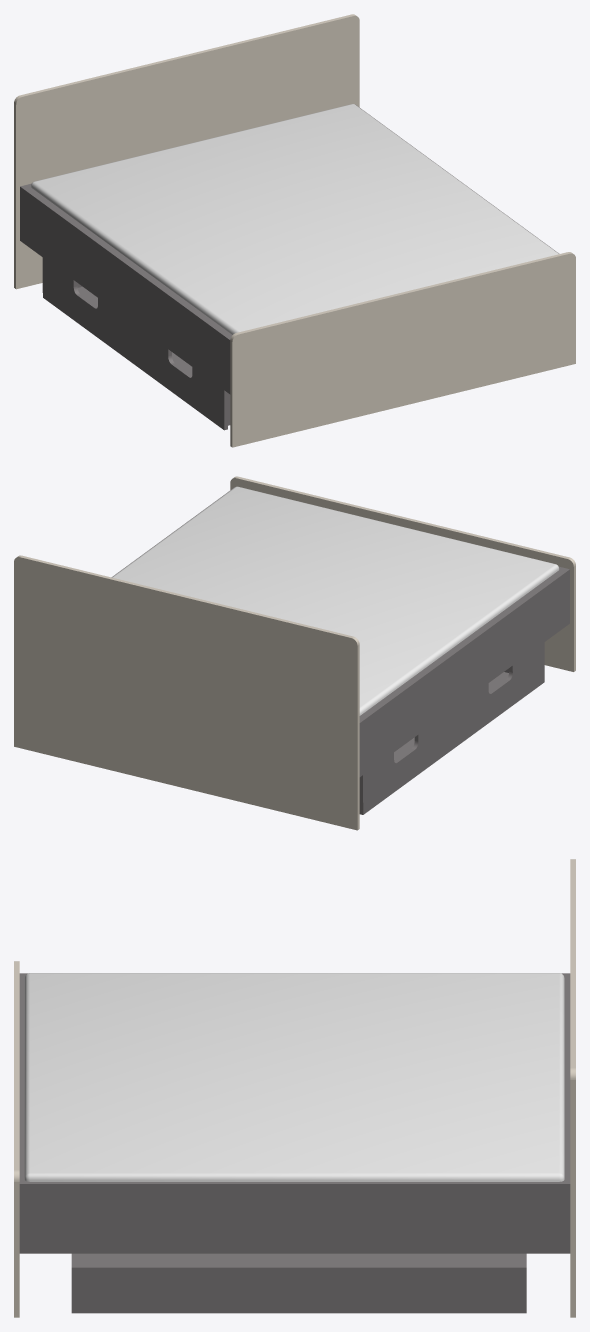
File: 2pir_lozko2os_plaski_szczyt_180.obj
3 renders of one model, top to bottom at view 1: azimuth 30°, elevation 25°; view 2: azimuth 150°, elevation 25°; view 3: azimuth 270°, elevation 25°, orthographic. The views are drawn at different scales.
Parts seen in each view (by area): view 1: ChamferBox01, Rectangle16, Rectangle17, Box02, Rectangle01; view 2: Rectangle17, ChamferBox01, Box02, Rectangle01, Rectangle16; view 3: ChamferBox01, Box02, Box01, Rectangle17, Rectangle16.
Boxes of the visible parts, left/top/right/bottom form: ChamferBox01: left=31, top=104, right=558, bottom=334; Rectangle16: left=230, top=252, right=575, bottom=447; Rectangle17: left=14, top=14, right=359, bottom=289; Box02: left=20, top=104, right=559, bottom=394; Rectangle01: left=42, top=257, right=227, bottom=430; Rectangle17: left=14, top=555, right=359, bottom=830; ChamferBox01: left=112, top=486, right=559, bottom=715; Box02: left=111, top=487, right=569, bottom=776; Rectangle01: left=359, top=642, right=544, bottom=814; Rectangle16: left=230, top=476, right=575, bottom=671; ChamferBox01: left=24, top=973, right=564, bottom=1181; Box02: left=19, top=973, right=570, bottom=1253; Box01: left=71, top=1253, right=526, bottom=1313; Rectangle17: left=570, top=859, right=575, bottom=1317; Rectangle16: left=14, top=961, right=19, bottom=1317.
Bounding box in the file's own units: 185 × 98.06 × 203.
